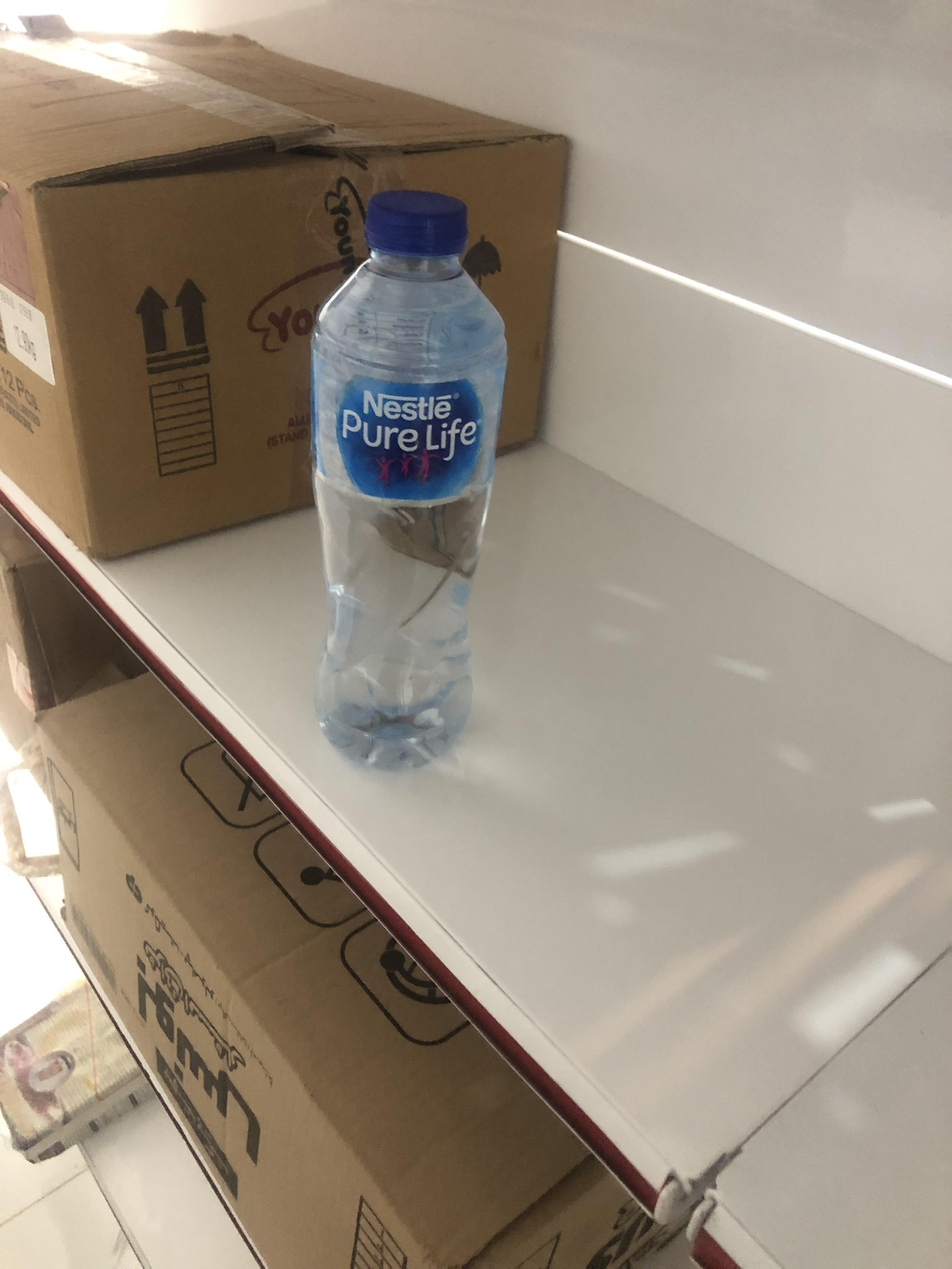bottle-plastic: (303, 183, 507, 771)
